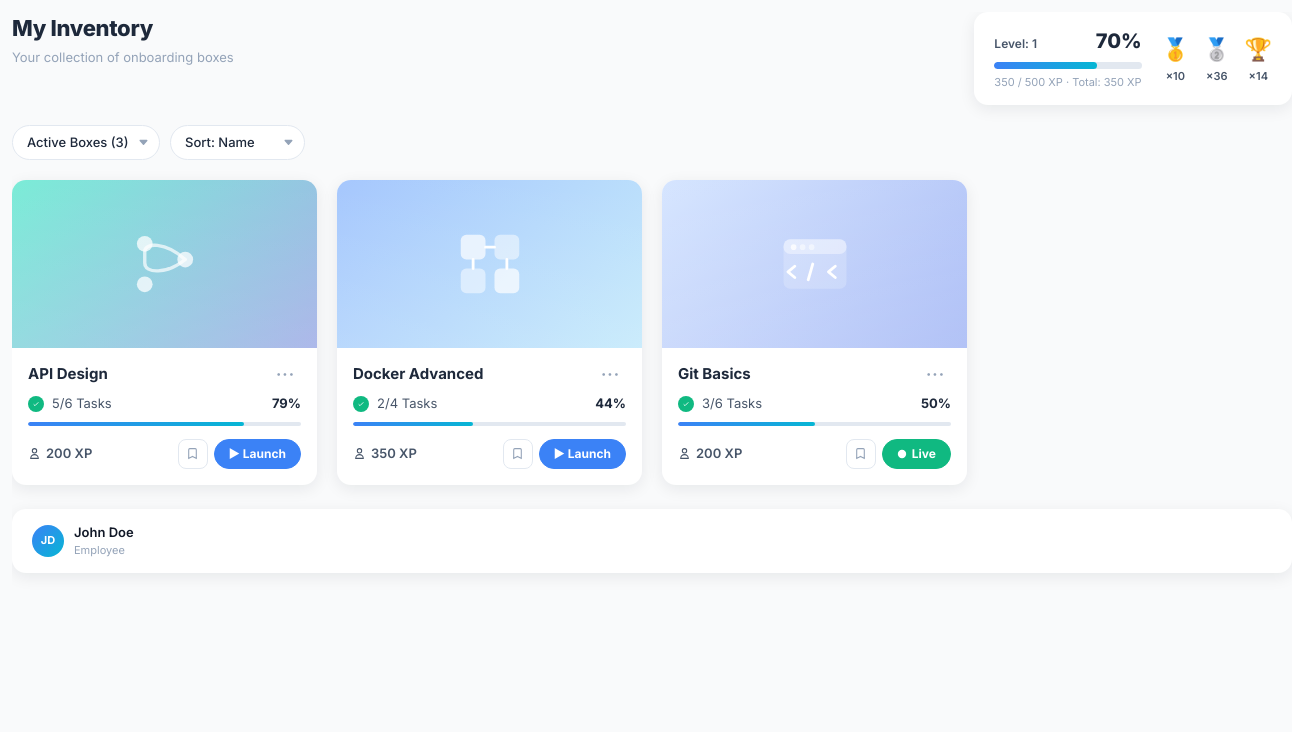
Test case: Dashboard › vuelve a mostrar todos los boxes al seleccionar "all"
Expected: the heading "Git Basics" is shown, 678,364 -> 751,384
Select "Beginner" in the 1st dropdown. click: (86, 142)
box: 12,124 -> 160,160
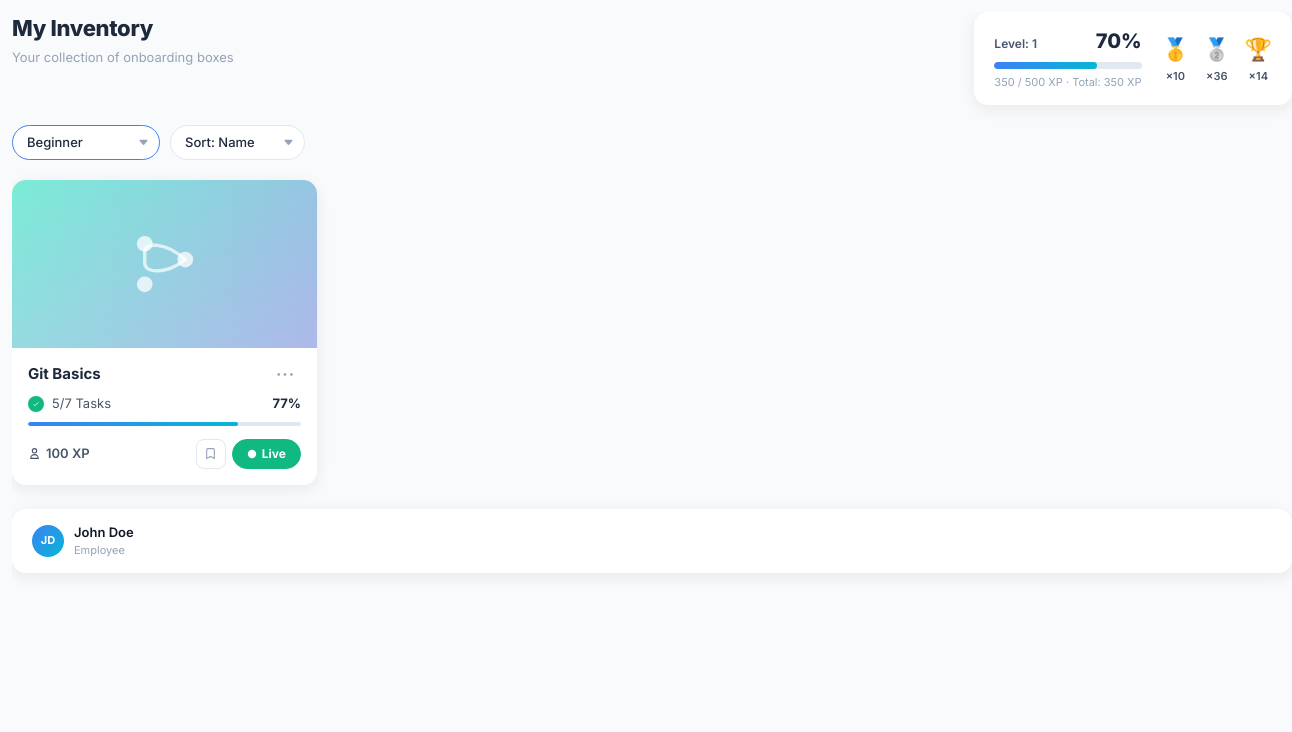
Select "Active Boxes (3)" in the 1st dropdown. click: (86, 142)
box: 12,124 -> 160,160
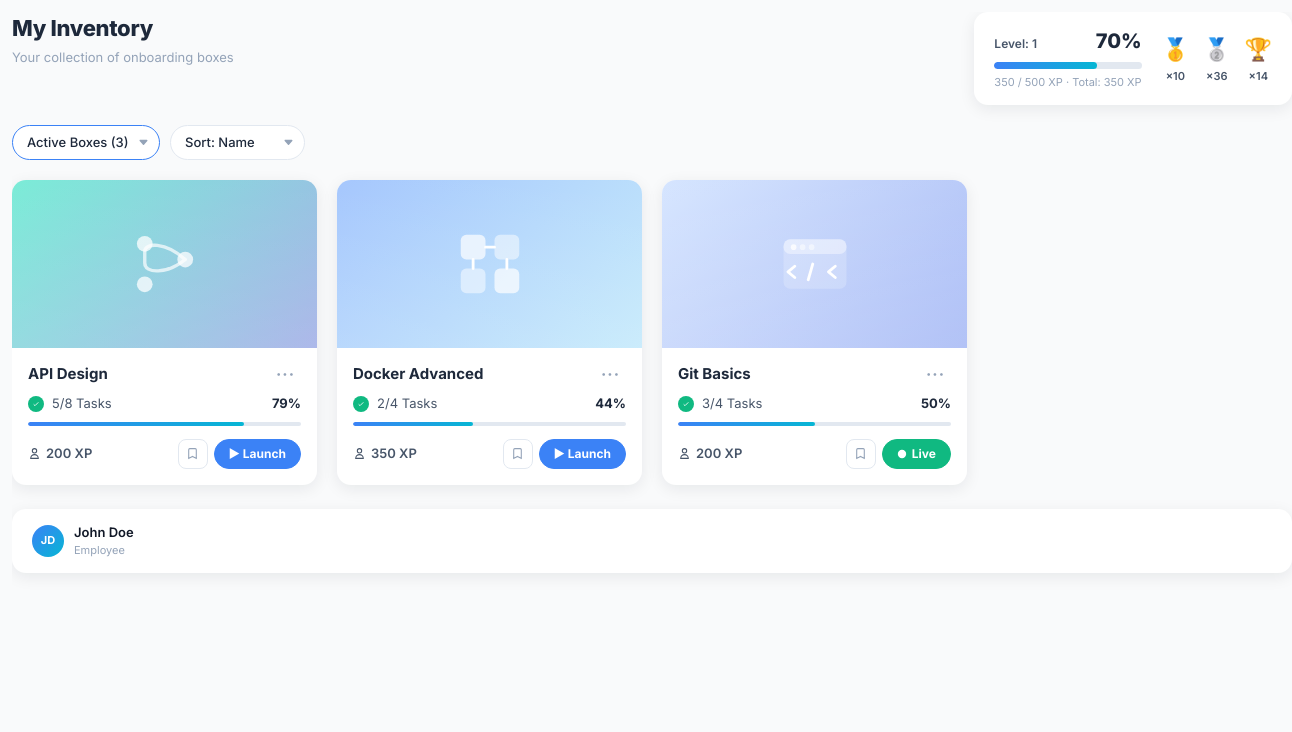
Expected: the heading "Git Basics" is shown, 678,364 -> 751,384
Expected: the heading "Docker Advanced" is shown, 353,364 -> 483,384
Expected: the heading "API Design" is shown, 28,364 -> 108,384
